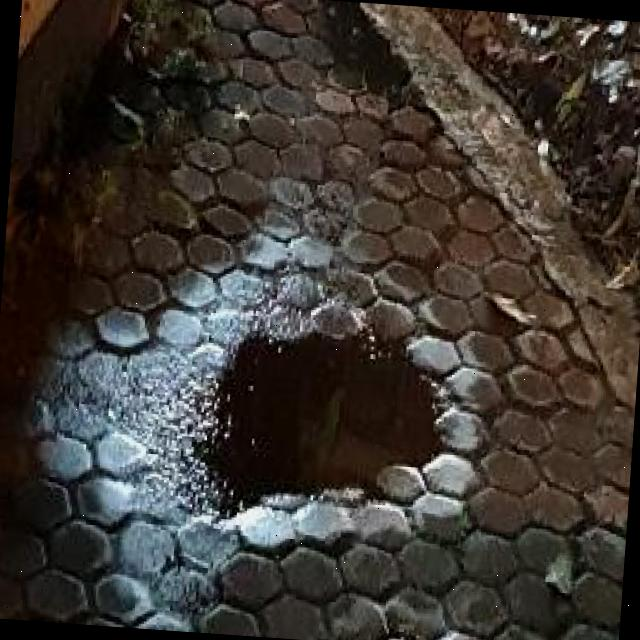stagnation: (195, 303, 472, 555)
